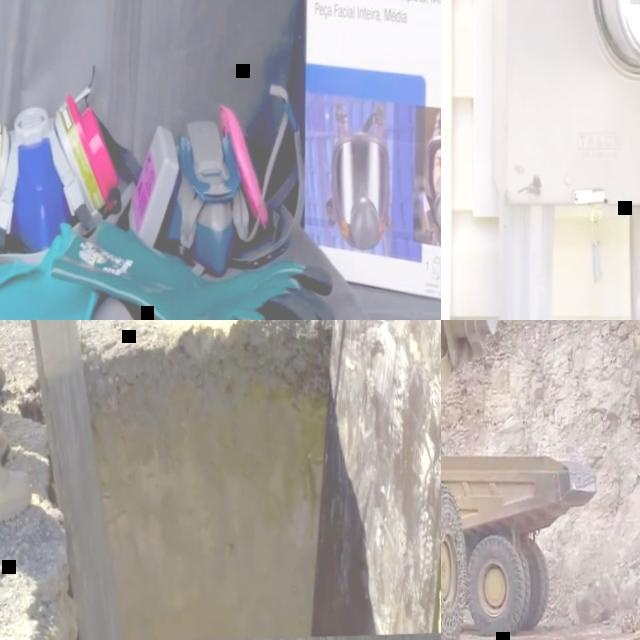Mask: (122, 99, 275, 277), (0, 89, 125, 256)
Person: (0, 320, 42, 525)
machinery: (441, 443, 605, 632), (441, 320, 528, 640)
